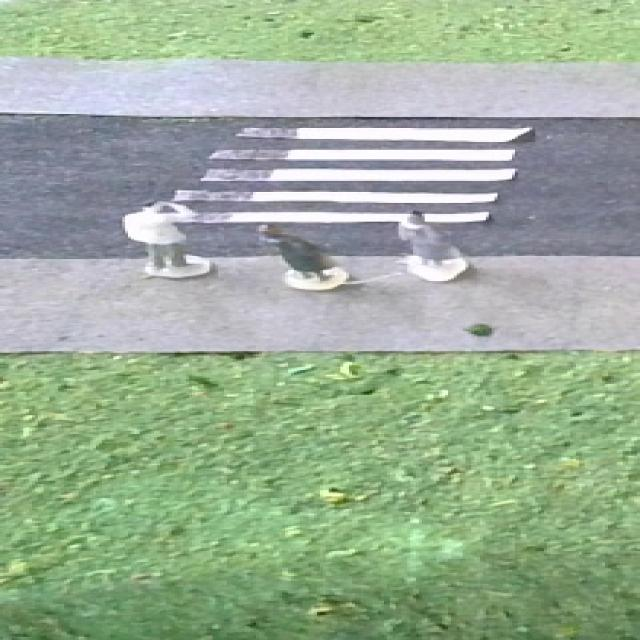person: (116, 198, 216, 281), (253, 219, 352, 292), (392, 207, 473, 284)
